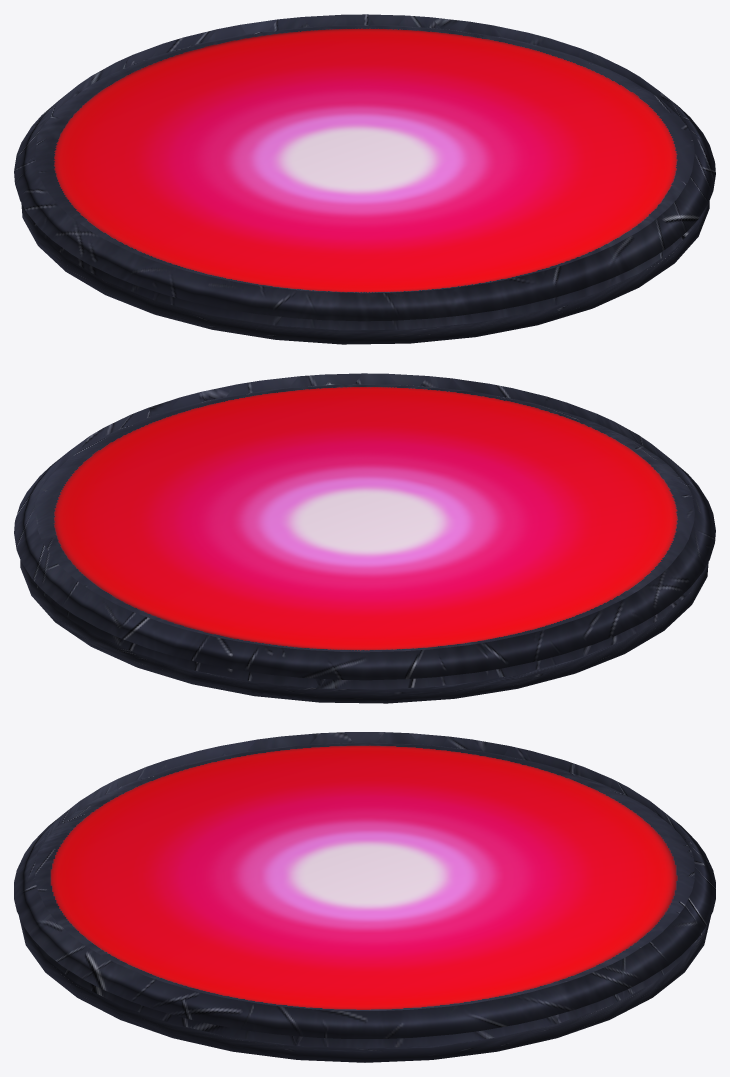
File: Teleporter.fbx
3 renders of one model, top to bottom at view 1: azimuth 30°, elevation 25°; view 2: azimuth 150°, elevation 25°; view 3: azimuth 270°, elevation 25°, orthographic.
Visible parts, largest first — view 1: Teleporter_LOD0; view 2: Teleporter_LOD0; view 3: Teleporter_LOD0.
Boxes of the visible parts, x1=… form: Teleporter_LOD0: x1=14, y1=14, x2=715, y2=344; Teleporter_LOD0: x1=14, y1=373, x2=715, y2=703; Teleporter_LOD0: x1=14, y1=732, x2=715, y2=1062.
Size of what is drawn, in the model's own units: 203 by 14.39 by 203.
